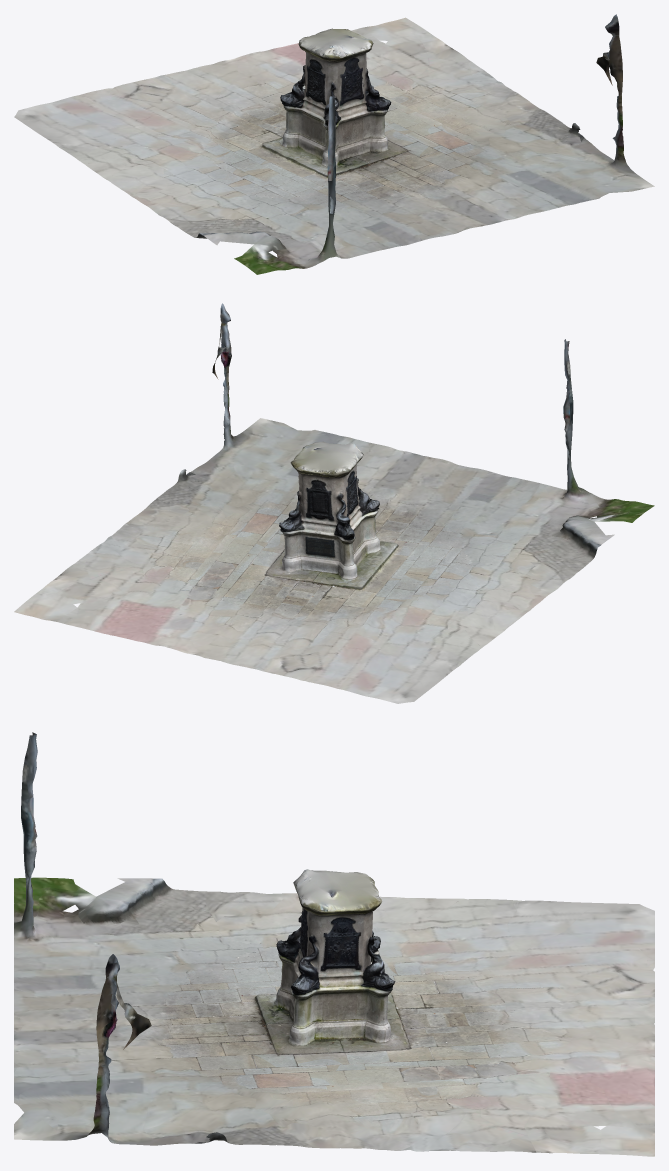
File: 3DModel.fbx
The picture shows the model from 3 angles, top to bottom: view 1: azimuth 30°, elevation 25°; view 2: azimuth 150°, elevation 25°; view 3: azimuth 270°, elevation 25°; orthographic projection. The views are drawn at different scales.
Parts seen in each view (by area): view 1: 3DModel; view 2: 3DModel; view 3: 3DModel.
Part boxes in pixels (x1,y1,x2,y2): 3DModel: (14,14,654,274); 3DModel: (14,303,654,703); 3DModel: (14,732,654,1156).
Size of the model in its own units: 314 by 132 by 340.
1 material, 1 textured.
